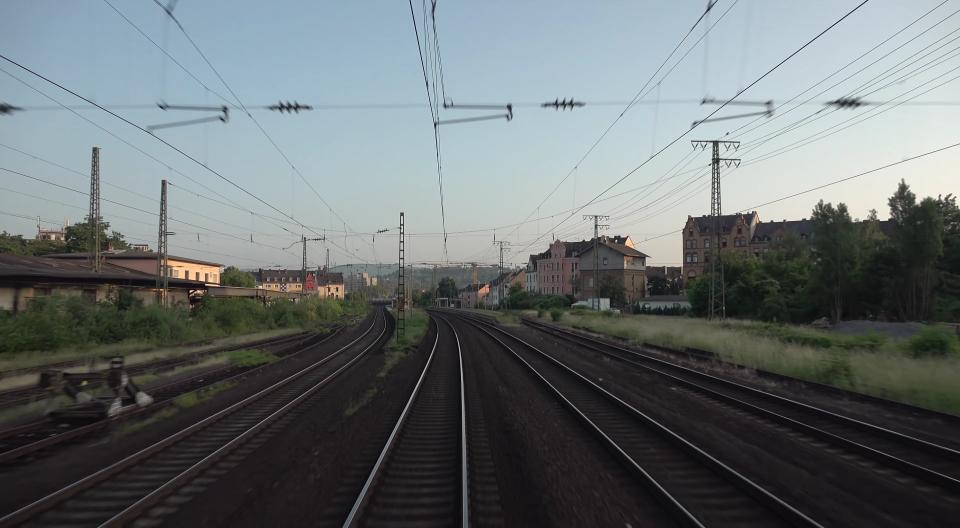Plant: (110, 381, 234, 435), (377, 345, 407, 377), (344, 388, 378, 416)
